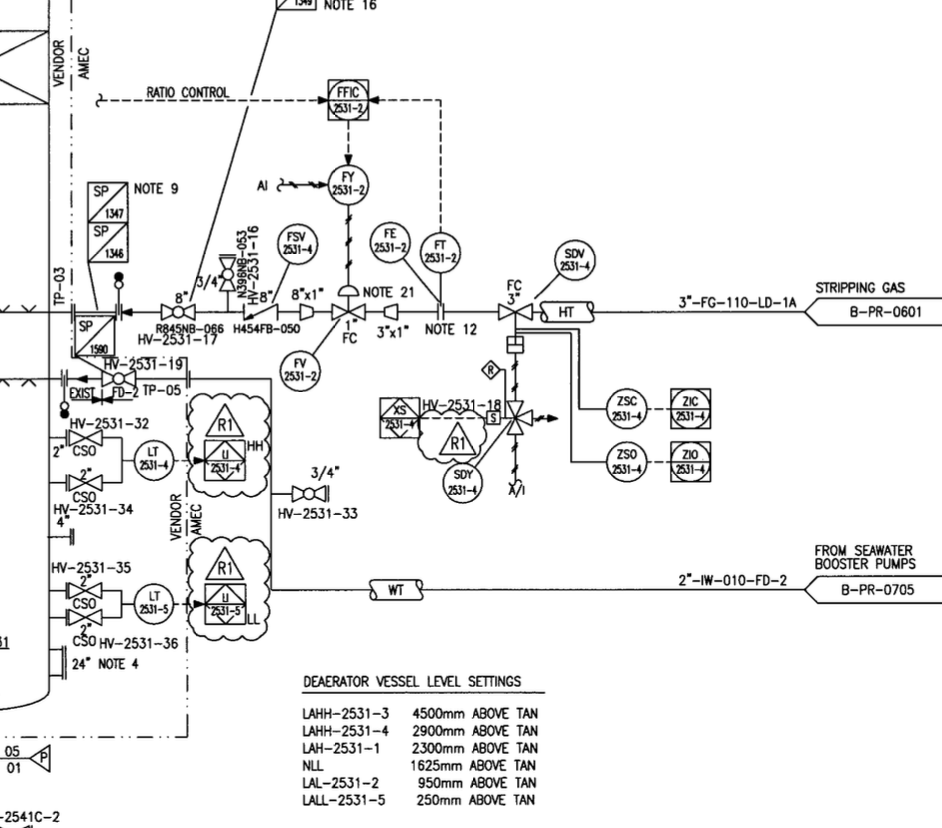Instrument: (544, 234, 600, 284), (603, 377, 651, 433), (602, 439, 653, 489), (323, 159, 377, 206), (440, 458, 487, 510), (417, 227, 465, 276), (278, 345, 324, 394), (369, 215, 413, 266), (132, 577, 175, 628), (132, 436, 176, 481)
Instrument-square: (322, 72, 377, 129), (197, 433, 250, 487), (663, 383, 715, 435), (664, 438, 716, 487), (196, 581, 249, 627)
